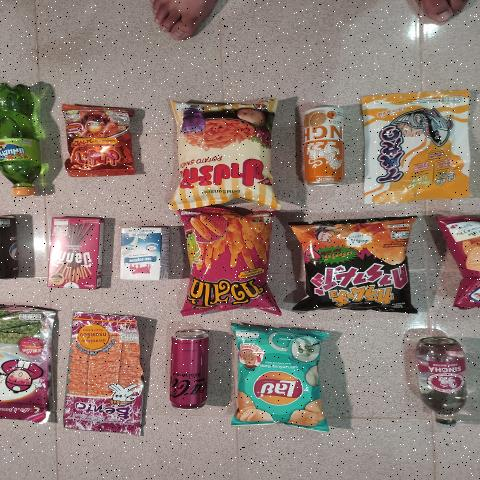bento_red: (64, 313, 152, 436)
coke_red: (157, 321, 212, 411)
fanta_green: (0, 81, 54, 195)
karamujo: (299, 226, 421, 310)
lay_blue: (231, 331, 326, 422)
mama: (61, 109, 142, 177)
paprika: (171, 107, 271, 204)
pepsi_black: (0, 213, 24, 282)
pokki: (51, 212, 103, 286)
singha_soda: (415, 342, 470, 425)
singha_yellow: (292, 98, 350, 191)
taokaenoi: (0, 310, 45, 422)
taro_yellow: (364, 94, 468, 204)
thai_denmark: (120, 227, 164, 282)
twisco: (190, 215, 274, 307)
